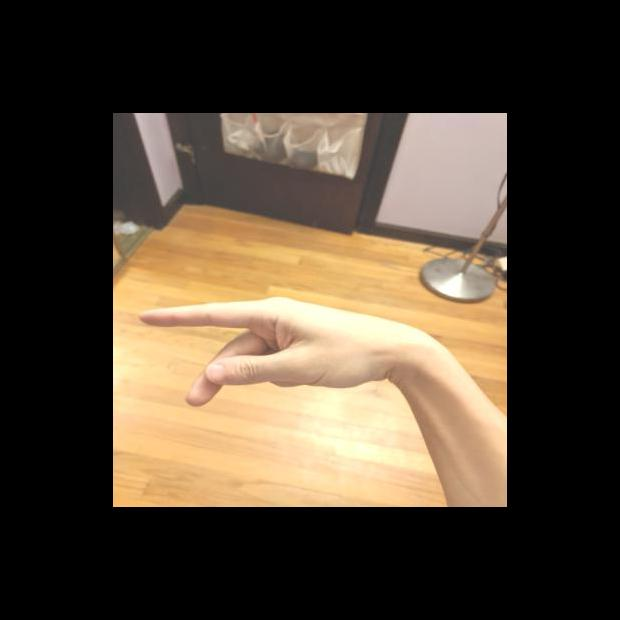O: (133, 290, 396, 416)
